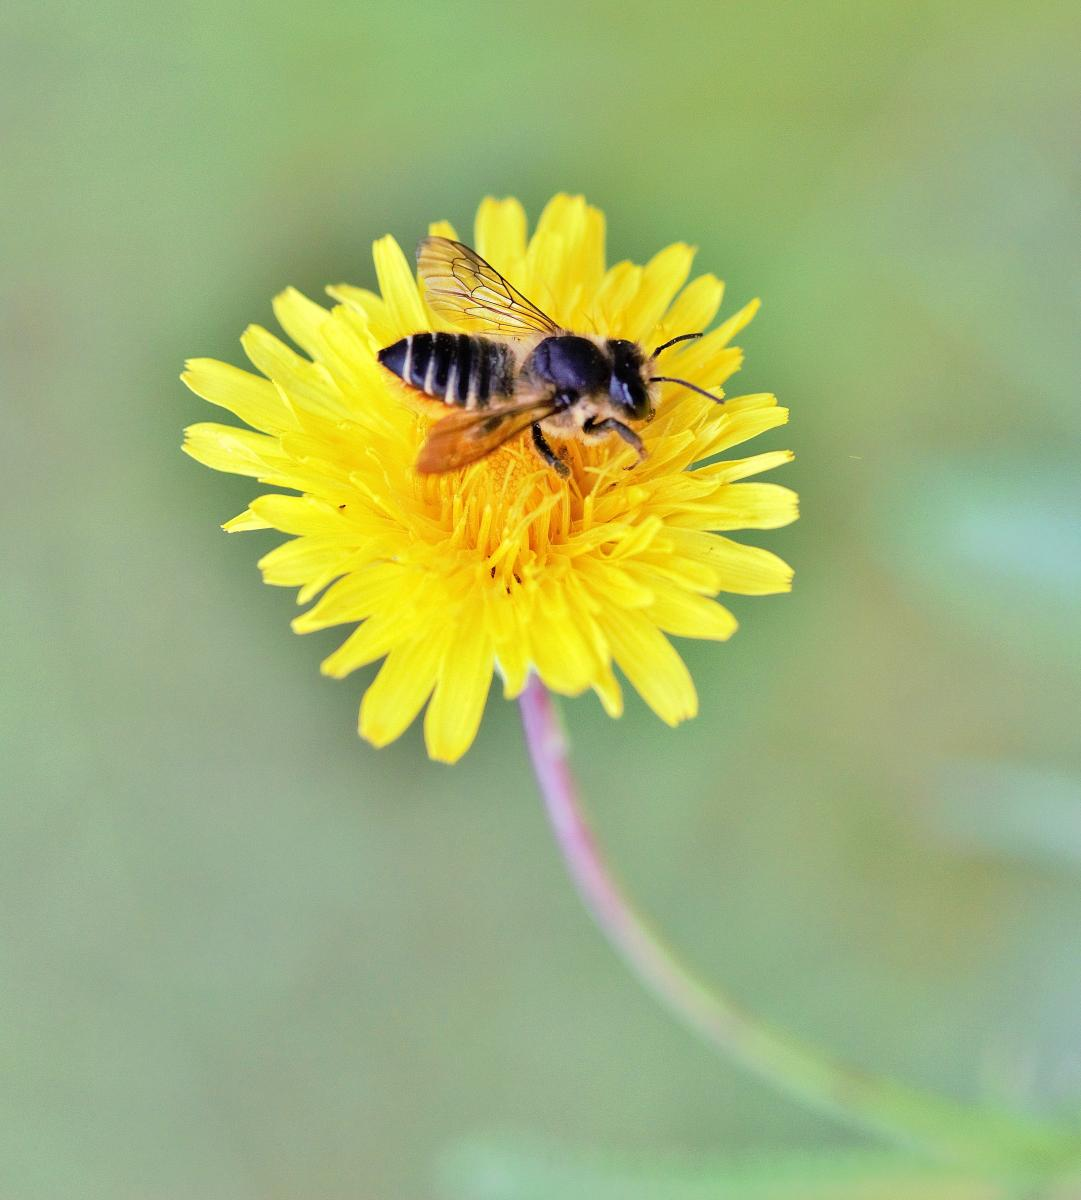dandelion: (171, 177, 790, 733)
